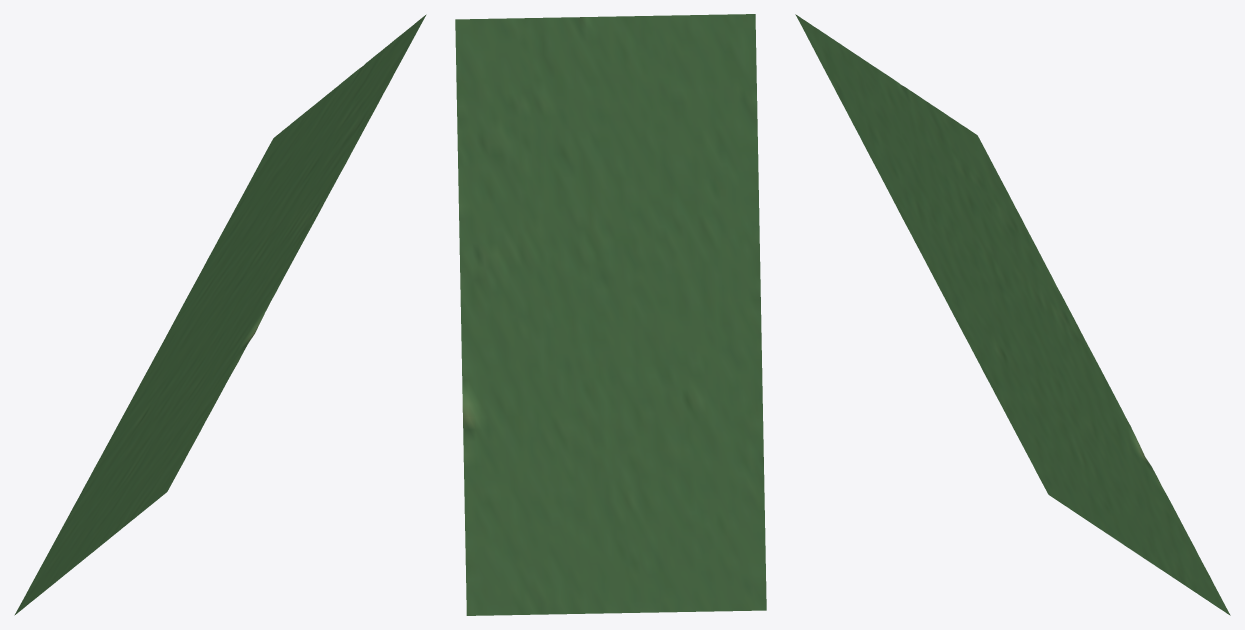
3 views of the same model, side by side, from view 1: azimuth 30°, elevation 25°; view 2: azimuth 150°, elevation 25°; view 3: azimuth 270°, elevation 25° (orthographic). The views are drawn at different scales.
Size of the model in its own units: 9874 by 13347 by 9602.
